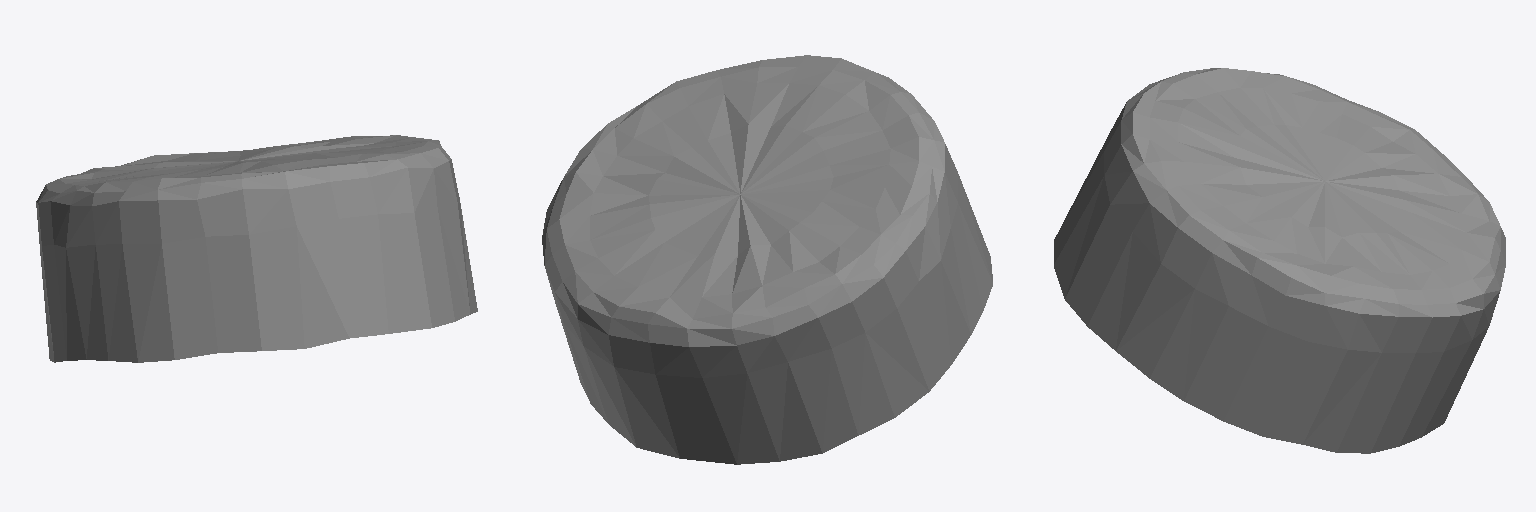
File: left_app_button.obj
3 views of the same model, side by side, from view 1: azimuth 30°, elevation 25°; view 2: azimuth 150°, elevation 25°; view 3: azimuth 270°, elevation 25° (orthographic).
Parts seen in each view (by area): view 1: left_app_button Mesh; view 2: left_app_button Mesh; view 3: left_app_button Mesh.
Part boxes in pixels (left/top/right/bottom): left_app_button Mesh: left=36, top=135, right=477, bottom=362; left_app_button Mesh: left=542, top=55, right=992, bottom=464; left_app_button Mesh: left=1054, top=68, right=1505, bottom=453.
Bounding box in the file's own units: 0.0076 × 0.0056 × 0.008.